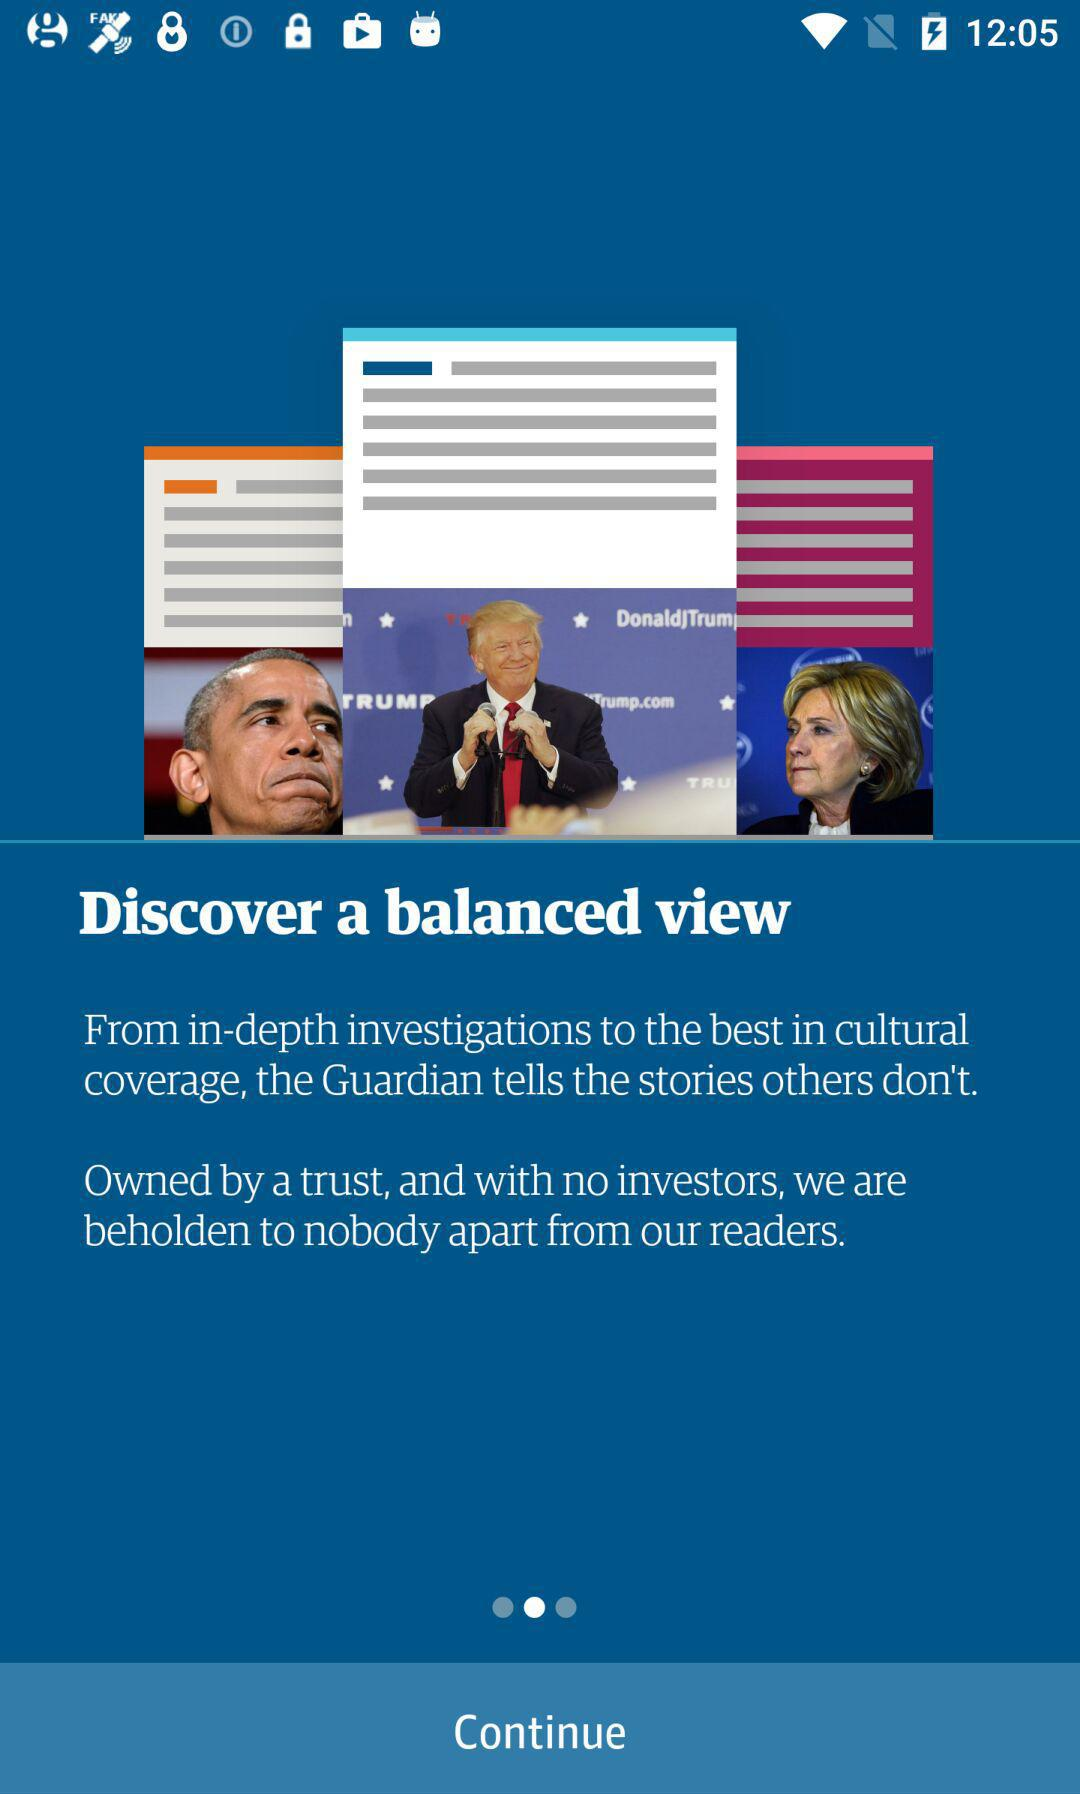Image: (143, 328, 934, 842)
PageIndicator: (491, 1594, 579, 1621)
Text: (83, 1008, 979, 1107), (82, 1162, 907, 1256), (76, 885, 790, 939)
TextButton: (1, 1665, 1080, 1794)
UpperTaskBar: (1, 1, 1080, 64)
